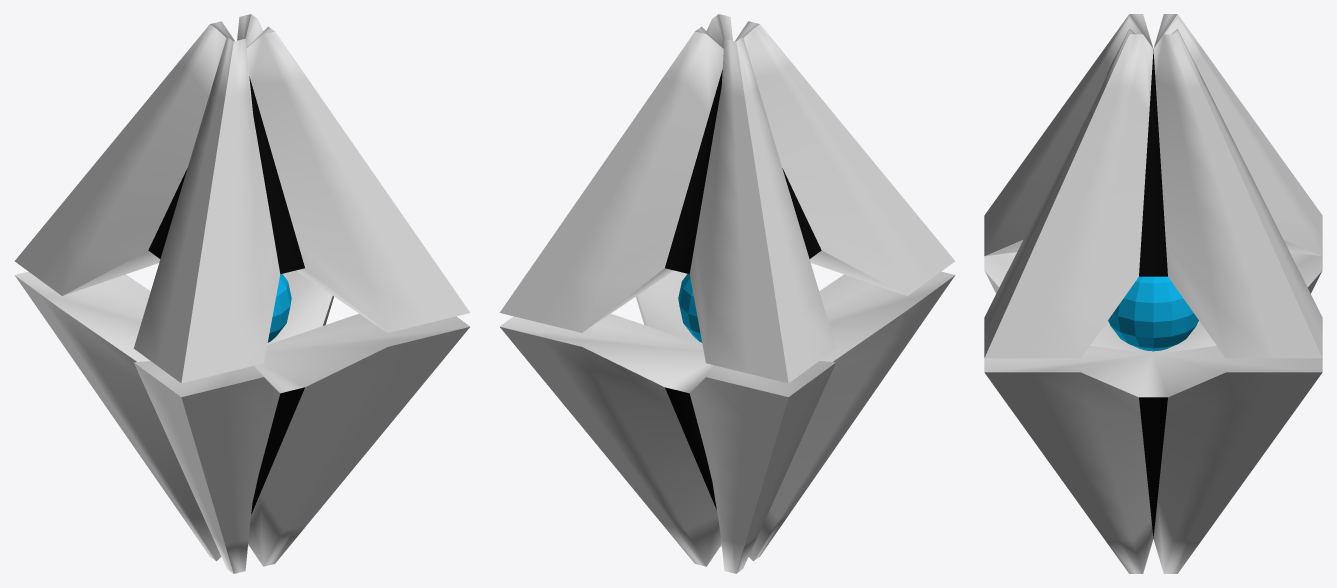
The model's file is MIA.FBX.
3 renders of one model, left to right at view 1: azimuth 30°, elevation 25°; view 2: azimuth 150°, elevation 25°; view 3: azimuth 270°, elevation 25°, orthographic.
Visible parts, largest first — view 1: Pyramid001; view 2: Pyramid001; view 3: Pyramid001.
Boxes of the visible parts, bbox=[...] form: Pyramid001: bbox=[14, 14, 470, 573]; Pyramid001: bbox=[499, 14, 955, 573]; Pyramid001: bbox=[984, 14, 1322, 573].
Size of the model in its own units: 25 by 44 by 25.
